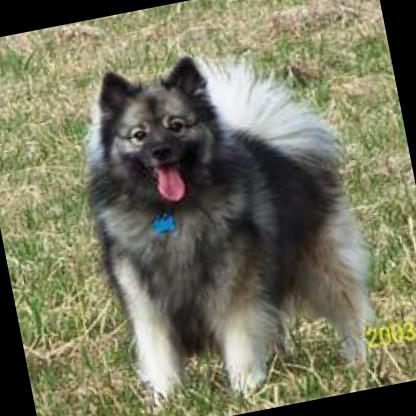keeshond: (63, 27, 384, 416)
